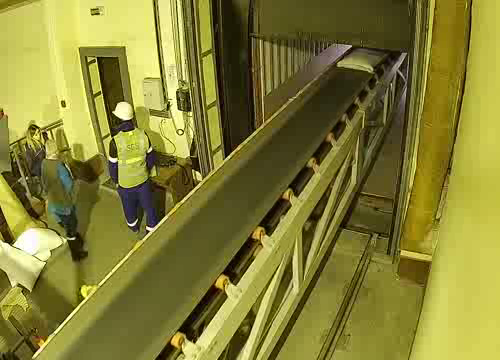bag: (337, 50, 387, 72)
